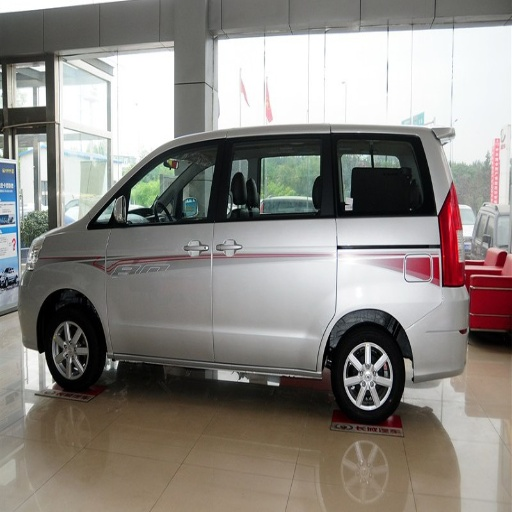back_left_door: (215, 137, 309, 362)
trunk: (295, 227, 453, 366)
